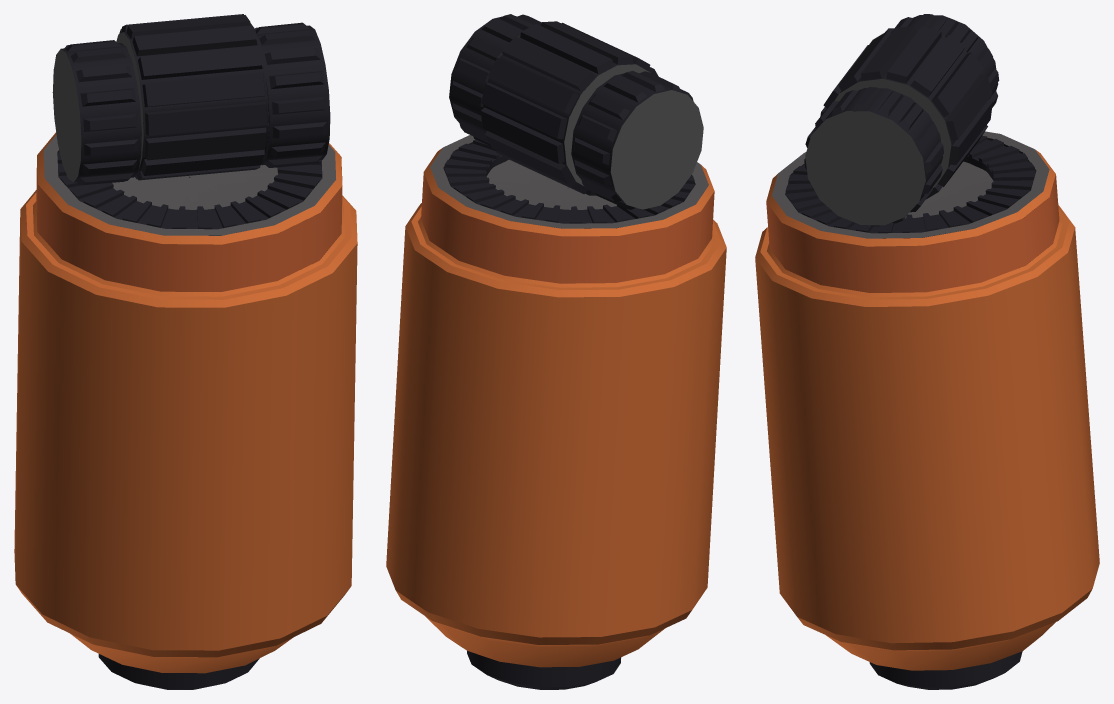
The model's file is r_leg.glb.
3 renders of one model, left to right at view 1: azimuth 30°, elevation 25°; view 2: azimuth 150°, elevation 25°; view 3: azimuth 270°, elevation 25°, orthographic. The views are drawn at different scales.
Visible parts, largest first — view 1: r_leg; view 2: r_leg; view 3: r_leg.
Part boxes in pixels (x1=…): r_leg: x1=14, y1=14, x2=357, y2=689; r_leg: x1=386, y1=14, x2=726, y2=689; r_leg: x1=755, y1=14, x2=1099, y2=689.
Bounding box in the file's own units: 0.5033 × 1.04 × 0.5283.
